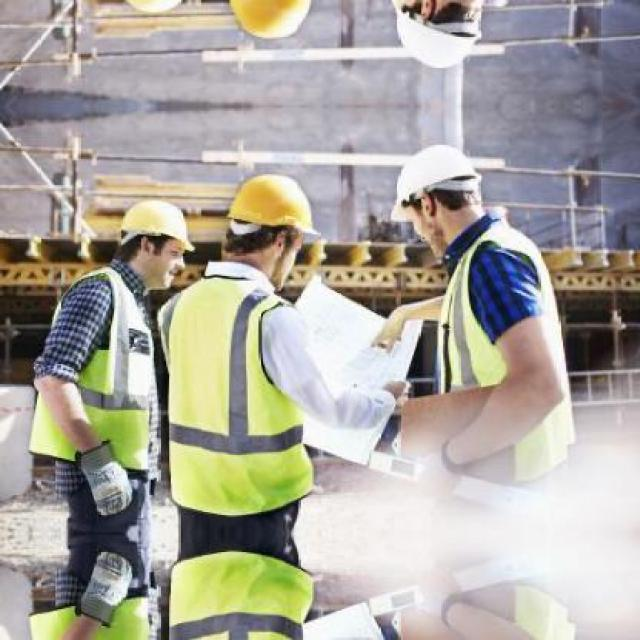Reflective-Jacket: (400, 222, 580, 487), (160, 272, 320, 522), (20, 264, 163, 481)
Safety-Helmet: (215, 165, 331, 254), (378, 136, 489, 225), (106, 192, 200, 258)
